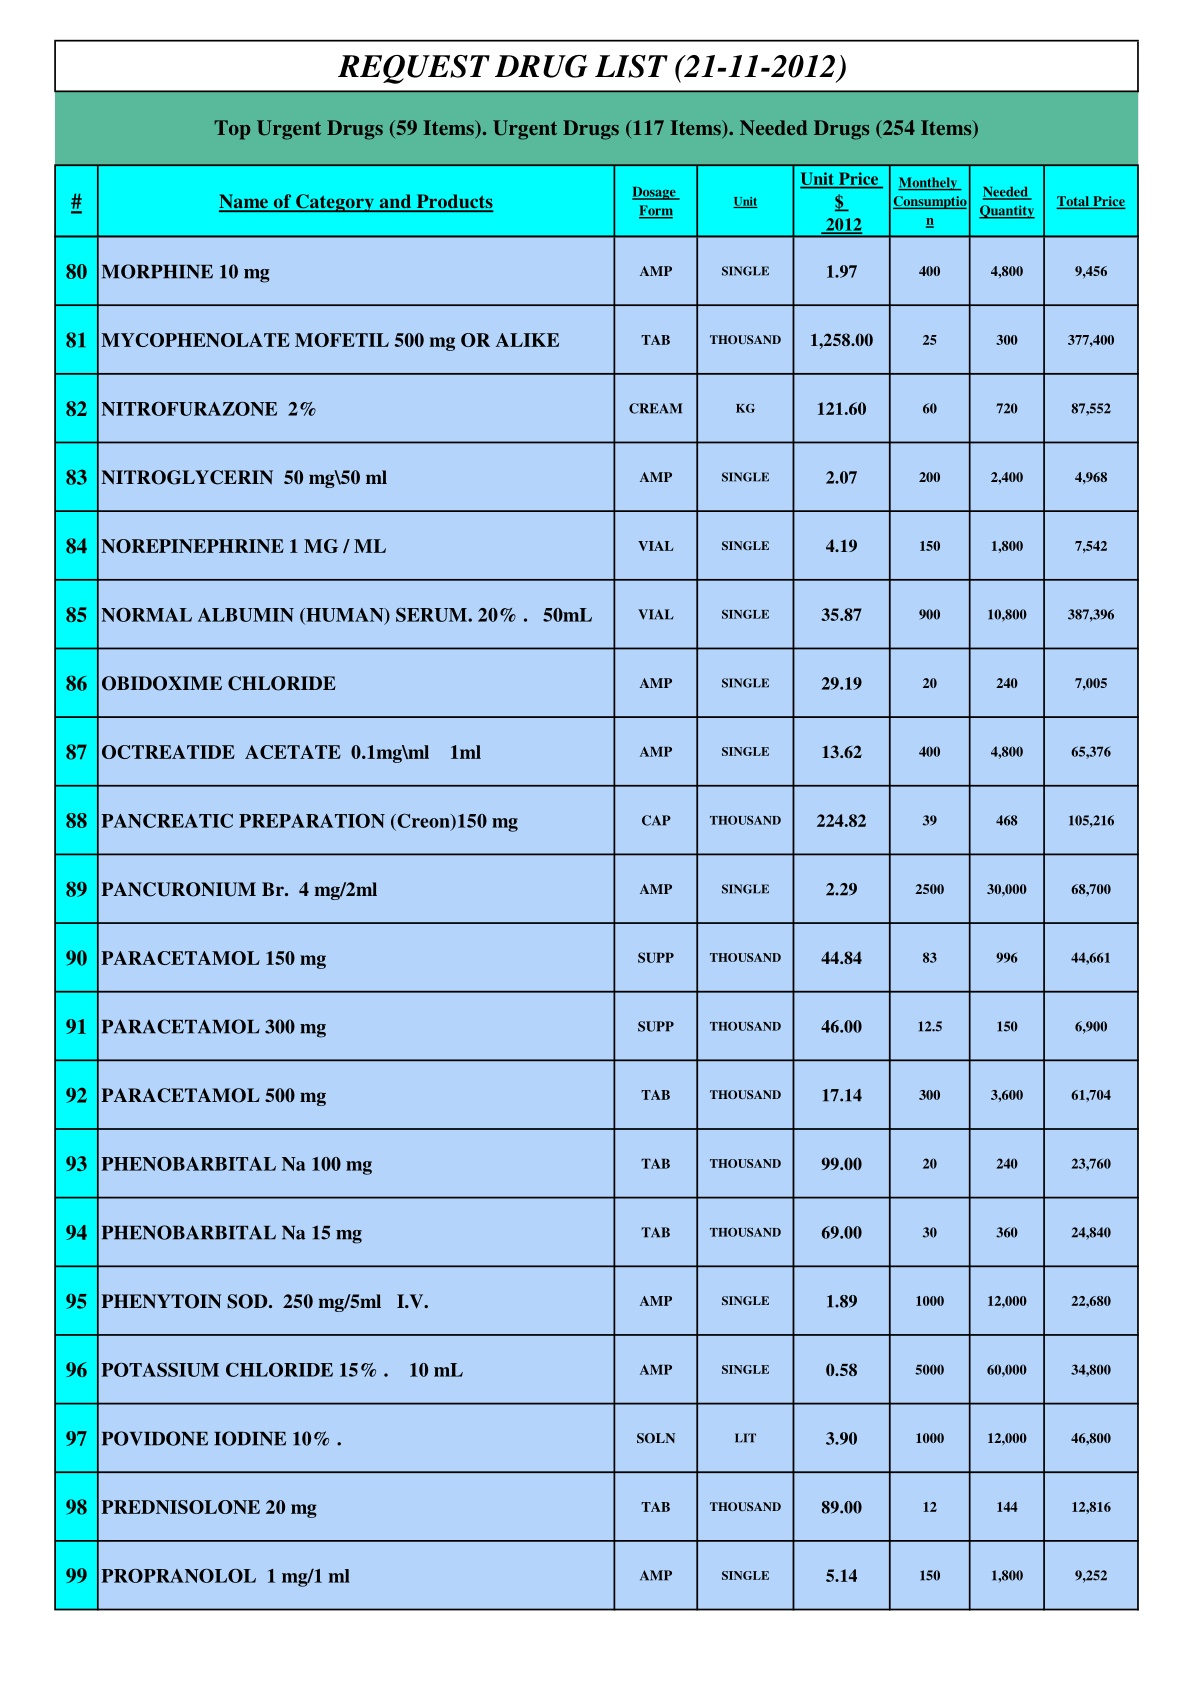merged_cells: (53, 37, 1139, 1611)
